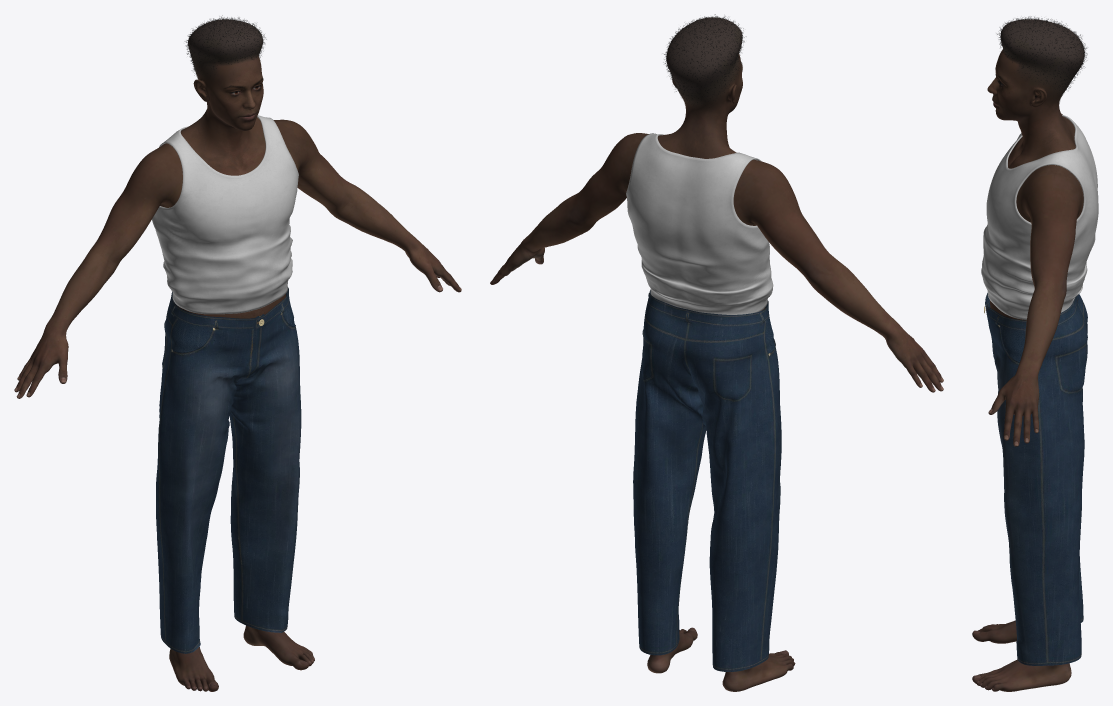
File: male-dark-jeans-sleeveless.glb
The picture shows the model from 3 angles, left to right: view 1: azimuth 30°, elevation 25°; view 2: azimuth 150°, elevation 25°; view 3: azimuth 270°, elevation 25°; orthographic projection.
Visible parts, largest first — view 1: Clothing 50s Rebel Jeans G9, Body, Clothing Classic Tank Top for Genesis 9, Hair G9 Faded Afro Hair; view 2: Clothing 50s Rebel Jeans G9, Body, Clothing Classic Tank Top for Genesis 9, Hair G9 Faded Afro Hair; view 3: Clothing 50s Rebel Jeans G9, Body, Clothing Classic Tank Top for Genesis 9, Hair G9 Faded Afro Hair.
Boxes of the visible parts, x1,y1,x2,y2 form: Clothing 50s Rebel Jeans G9: [156, 287, 301, 653]; Body: [14, 55, 461, 691]; Clothing Classic Tank Top for Genesis 9: [152, 115, 298, 314]; Hair G9 Faded Afro Hair: [185, 15, 266, 79]; Clothing 50s Rebel Jeans G9: [633, 290, 781, 671]; Body: [490, 54, 943, 691]; Clothing Classic Tank Top for Genesis 9: [626, 133, 773, 314]; Hair G9 Faded Afro Hair: [664, 14, 744, 113]; Clothing 50s Rebel Jeans G9: [985, 293, 1087, 665]; Body: [972, 49, 1083, 691]; Clothing Classic Tank Top for Genesis 9: [981, 115, 1098, 319]; Hair G9 Faded Afro Hair: [997, 16, 1087, 103].
Size of the model in its own units: 1.28 by 1.77 by 0.3152.
Materials: 33 (32 with a texture image).
